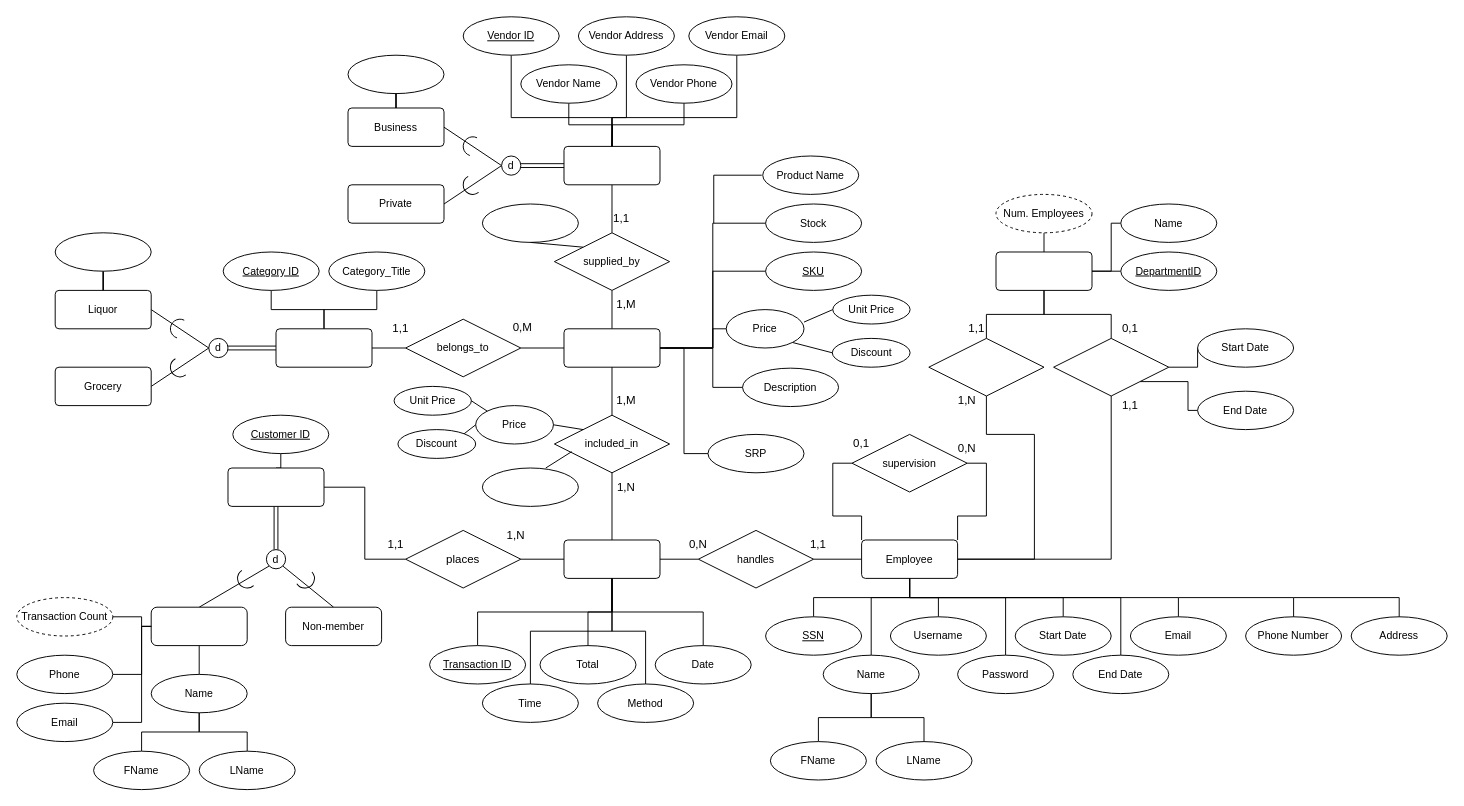
The diagram is 1464 pixels wide and 806 high, and some of its shapes have lost their labels. Each missing label, with the centre of its shape:
Category: point 323,347
Contract: point 395,74
Customer: point 275,486
Department: point 1043,270
Liquor tax: point 102,251
Loyalty member: point 198,626
manages: point 1111,366
Product: point 611,347
Quantity: point 529,486
Supply Date: point 529,222
Transaction: point 611,558
Vendor: point 611,165
works_for: point 986,366
